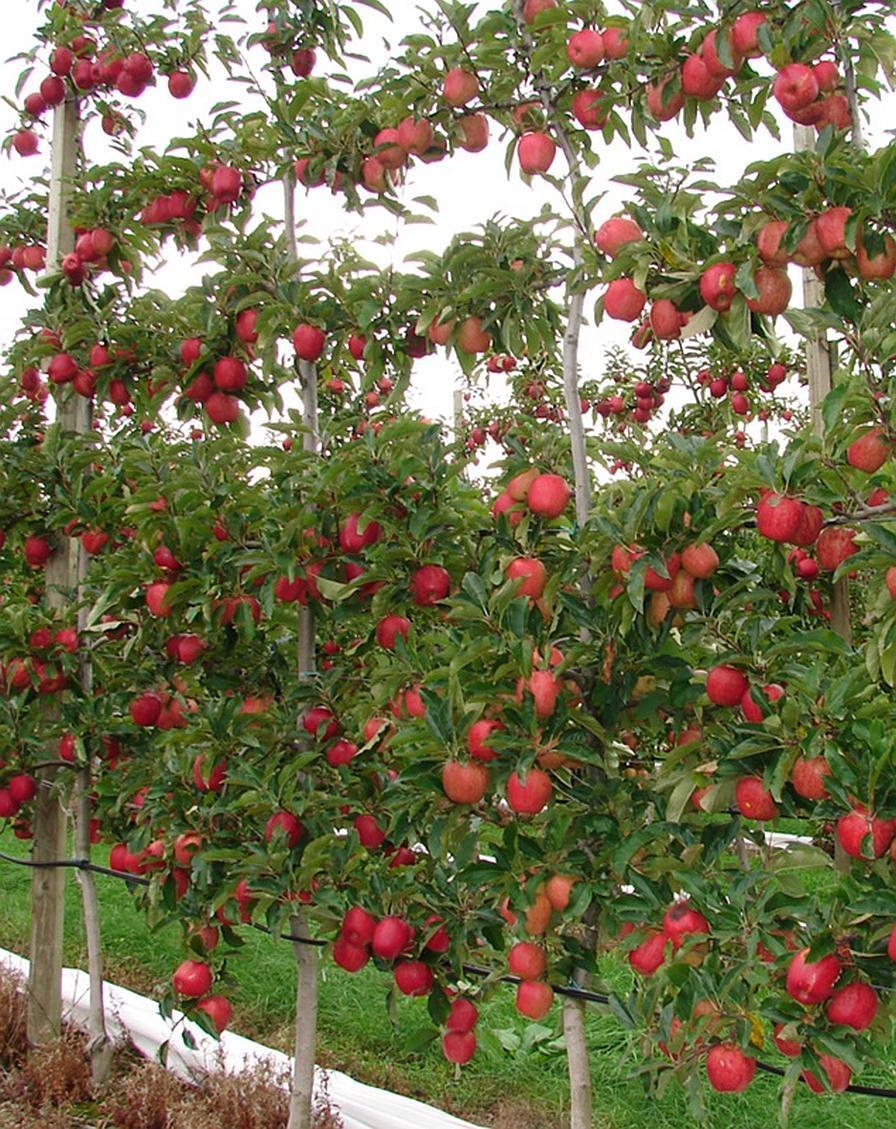apple: (754, 491, 823, 547), (784, 948, 841, 1005), (825, 980, 879, 1031), (746, 262, 791, 316), (503, 767, 551, 815), (593, 215, 643, 258), (440, 758, 486, 804), (525, 473, 571, 518), (733, 775, 777, 820), (845, 429, 888, 473), (569, 86, 613, 128), (705, 664, 748, 706), (515, 132, 555, 174), (409, 563, 449, 604), (170, 958, 212, 997), (440, 68, 479, 108), (392, 959, 432, 996), (162, 631, 206, 664), (394, 115, 431, 154), (566, 28, 602, 68), (290, 321, 325, 360), (203, 391, 244, 424), (453, 112, 487, 151), (212, 357, 245, 392)
